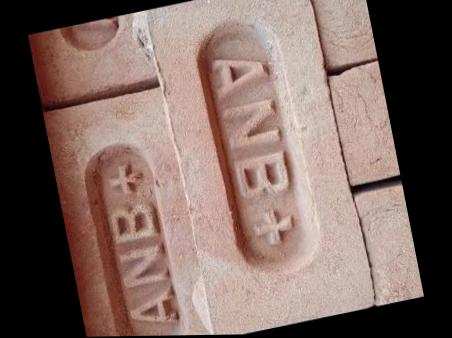brick: (143, 0, 379, 336), (43, 85, 227, 337), (32, 10, 160, 100), (353, 184, 424, 307), (332, 59, 400, 183), (310, 0, 377, 66)
